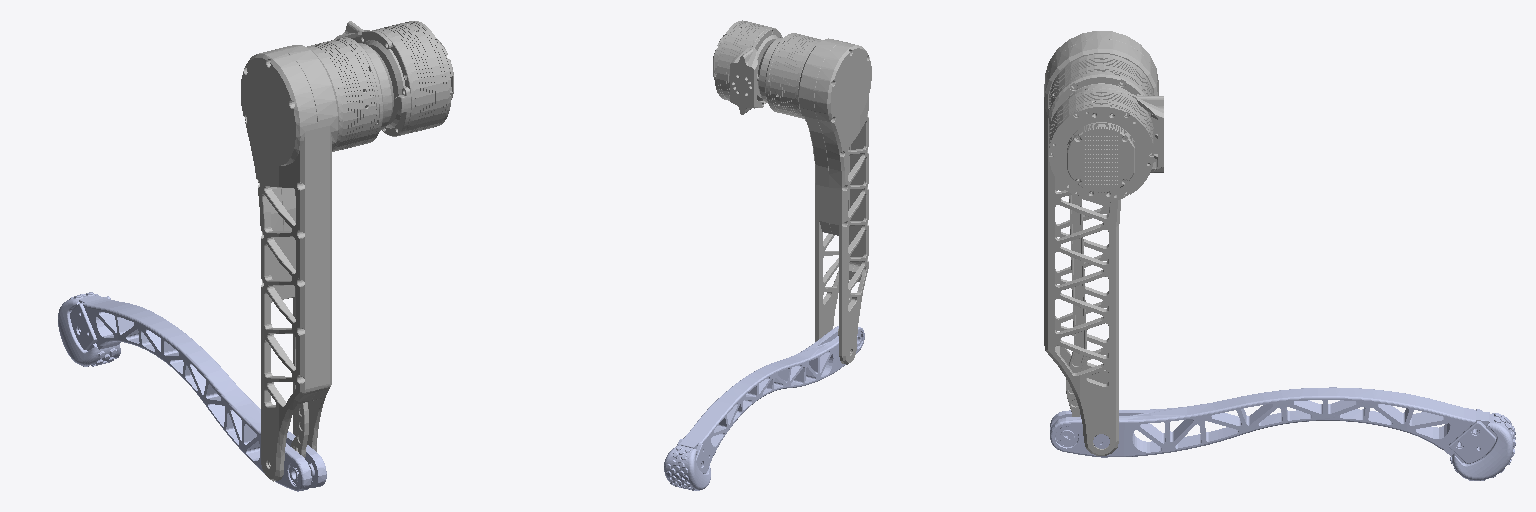
URDF robot description (URDF_14):
<?xml version="1.0" encoding="utf-8"?>
<!-- This URDF was automatically created by SolidWorks to URDF Exporter! Originally created by [author] ([email redacted]) 
     Commit Version: 1.6.0-4-g7f85cfe  Build Version: 1.6.7995.38578
     For more information, please see http://wiki.ros.org/sw_urdf_exporter -->
<robot
  name="URDF_14">
  <link
    name="base_link">
    <inertial>
      <origin
        xyz="-0.038225 -0.045584 0.12824"
        rpy="0 0 0" />
      <mass
        value="2.2093" />
      <inertia
        ixx="0.0039704"
        ixy="2.6662E-05"
        ixz="5.7974E-06"
        iyy="0.0055375"
        iyz="2.1256E-06"
        izz="0.0080598" />
    </inertial>
    <visual>
      <origin
        xyz="0 0 0"
        rpy="0 0 0" />
      <geometry>
        <mesh
          filename="package://URDF_14/meshes/base_link.STL" />
      </geometry>
      <material
        name="">
        <color
          rgba="0.75294 0.75294 0.75294 1" />
      </material>
    </visual>
    <collision>
      <origin
        xyz="0 0 0"
        rpy="0 0 0" />
      <geometry>
        <mesh
          filename="package://URDF_14/meshes/base_link.STL" />
      </geometry>
    </collision>
  </link>
  <link
    name="Hip_link">
    <inertial>
      <origin
        xyz="0.013108 -0.044177 0.00034503"
        rpy="0 0 0" />
      <mass
        value="1.008" />
      <inertia
        ixx="0.00018713"
        ixy="-3.0023E-08"
        ixz="6.9168E-08"
        iyy="0.00011382"
        iyz="4.6352E-06"
        izz="8.916E-05" />
    </inertial>
    <visual>
      <origin
        xyz="0 0 0"
        rpy="0 0 0" />
      <geometry>
        <mesh
          filename="package://URDF_14/meshes/Hip_link.STL" />
      </geometry>
      <material
        name="">
        <color
          rgba="0.75294 0.75294 0.75294 1" />
      </material>
    </visual>
    <collision>
      <origin
        xyz="0 0 0"
        rpy="0 0 0" />
      <geometry>
        <mesh
          filename="package://URDF_14/meshes/Hip_link.STL" />
      </geometry>
    </collision>
  </link>
  <joint
    name="Hip"
    type="revolute">
    <origin
      xyz="0 0 0"
      rpy="0 0 0" />
    <parent
      link="base_link" />
    <child
      link="Hip_link" />
    <axis
      xyz="0 1 0" />
    <limit
      lower="-1.4399"
      upper="1.4399"
      effort="0"
      velocity="0" />
  </joint>
  <link
    name="Thigh_link">
    <inertial>
      <origin
        xyz="-0.075591 -0.0076549 -0.091964"
        rpy="0 0 0" />
      <mass
        value="2.00827" />
      <inertia
        ixx="0.012828"
        ixy="1.1342E-06"
        ixz="-1.7039E-05"
        iyy="0.012075"
        iyz="-0.00024099"
        izz="0.00082748" />
    </inertial>
    <visual>
      <origin
        xyz="0 0 0"
        rpy="0 0 0" />
      <geometry>
        <mesh
          filename="package://URDF_14/meshes/Thigh_link.STL" />
      </geometry>
      <material
        name="">
        <color
          rgba="0.75294 0.75294 0.75294 1" />
      </material>
    </visual>
    <collision>
      <origin
        xyz="0 0 0"
        rpy="0 0 0" />
      <geometry>
        <mesh
          filename="package://URDF_14/meshes/Thigh_link.STL" />
      </geometry>
    </collision>
  </link>
  <joint
    name="Thigh"
    type="revolute">
    <origin
      xyz="-0.0082 -0.058 0"
      rpy="0 0 0" />
    <parent
      link="Hip_link" />
    <child
      link="Thigh_link" />
    <axis
      xyz="1 0 0" />
    <limit
      lower="-2.9845"
      upper="2.9845"
      effort="0"
      velocity="0" />
  </joint>
  <link
    name="Calf_link">
    <inertial>
      <origin
        xyz="0.000203770717243083 0.00952938812029318 -0.176982427275814"
        rpy="0 0 0" />
      <mass
        value="0.60518433734649" />
      <inertia
        ixx="0.00772794484997601"
        ixy="1.44224271129486E-08"
        ixz="1.45933169504129E-08"
        iyy="0.00760727594236918"
        iyz="0.000432410282188059"
        izz="0.00018638549348508" />
    </inertial>
    <visual>
      <origin
        xyz="0 0 0"
        rpy="0 0 0" />
      <geometry>
        <mesh
          filename="package://URDF_14/meshes/Calf_link.STL" />
      </geometry>
      <material
        name="">
        <color
          rgba="0.792156862745098 0.819607843137255 0.933333333333333 1" />
      </material>
    </visual>
    <collision>
      <origin
        xyz="0 0 0"
        rpy="0 0 0" />
      <geometry>
        <mesh
          filename="package://URDF_14/meshes/Calf_link.STL" />
      </geometry>
    </collision>
  </link>
  <joint
    name="Calf"
    type="revolute">
    <origin
      xyz="-0.089 0 -0.35"
      rpy="0 0 0" />
    <parent
      link="Thigh_link" />
    <child
      link="Calf_link" />
    <axis
      xyz="1 0 0" />
    <limit
      lower="0.294"
      upper="2.793"
      effort="0"
      velocity="0" />
  </joint>
</robot>

--- Render facts (derived) ---
3 views of the same robot in one strip: view 1: azimuth 30°, elevation 25°; view 2: azimuth 150°, elevation 25°; view 3: azimuth 270°, elevation 25° (orthographic).
Robot: URDF_14 — 4 links, 3 joints (3 revolute); root link base_link; default pose: joints at zero except 1 at the middle of their limits (Calf = 1.54).
Visible links, largest first — view 1: Thigh_link, Calf_link, Hip_link; view 2: Thigh_link, Calf_link, Hip_link; view 3: Thigh_link, Calf_link, Hip_link.
Boxes of the visible links, left/top/right/bottom form: Thigh_link: left=241, top=37, right=393, bottom=481; Calf_link: left=58, top=292, right=326, bottom=491; Hip_link: left=334, top=21, right=453, bottom=136; Thigh_link: left=757, top=33, right=871, bottom=364; Calf_link: left=664, top=326, right=864, bottom=490; Hip_link: left=713, top=20, right=782, bottom=114; Thigh_link: left=1044, top=31, right=1158, bottom=455; Calf_link: left=1050, top=387, right=1515, bottom=480; Hip_link: left=1049, top=86, right=1163, bottom=202.
Bounding box of the posed robot: 0.1748 × 0.4371 × 0.4466 m (x, y, z).
Meshes: 4 distinct files referenced, 3 mesh visuals loaded (3 binary STL); not drawn: 1 (reference not matched to a file when rendering).